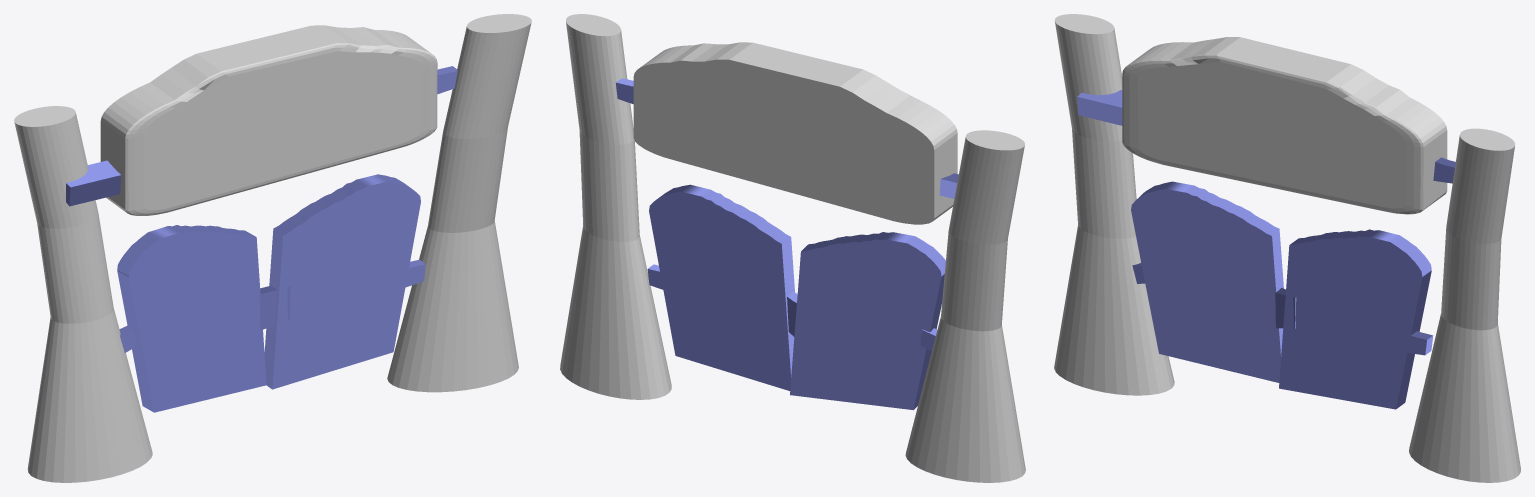
File: portal2.fbx
3 views of the same model, side by side, from view 1: azimuth 30°, elevation 25°; view 2: azimuth 150°, elevation 25°; view 3: azimuth 330°, elevation 25° (orthographic). The views are drawn at different scales.
Parts seen in each view (by area): view 1: Cube, Cylinder.001, Cylinder, root.004, root.005, root.001, root.006; view 2: Cube, Cylinder, Cylinder.001, root.005, root.004; view 3: Cube, Cylinder, Cylinder.001, root.005, root.004, root.001, root.009.
Part boxes in pixels (x1,y1,x2,y2): Cube: [100, 25, 437, 215]; Cylinder.001: [387, 14, 531, 392]; Cylinder: [14, 106, 152, 482]; root.004: [264, 174, 420, 389]; root.005: [117, 225, 266, 412]; root.001: [66, 160, 121, 206]; root.006: [259, 285, 290, 330]; Cube: [633, 42, 957, 224]; Cylinder: [905, 130, 1025, 482]; Cylinder.001: [560, 14, 671, 399]; root.005: [790, 232, 945, 410]; root.004: [649, 184, 794, 390]; Cube: [1122, 37, 1447, 214]; Cylinder: [1054, 14, 1174, 395]; Cylinder.001: [1409, 128, 1520, 482]; root.005: [1131, 181, 1283, 382]; root.004: [1279, 229, 1431, 409]; root.001: [1077, 90, 1122, 125]; root.009: [1407, 331, 1433, 355].
Bounding box in the file's own units: 1067 × 765 × 165.
